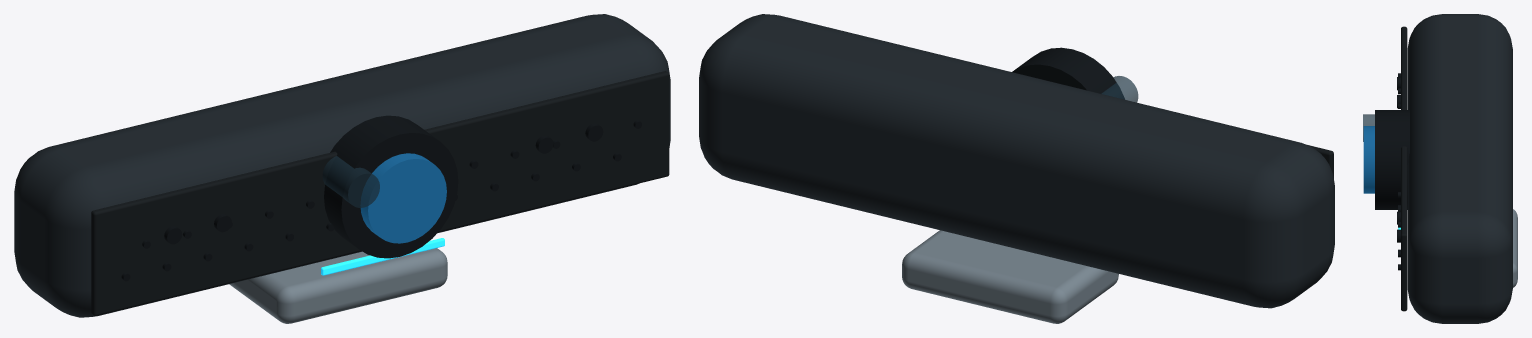
Rendered from conference-bar.glb.
3 renders of one model, left to right at view 1: azimuth 30°, elevation 25°; view 2: azimuth 150°, elevation 25°; view 3: azimuth 270°, elevation 25°, orthographic. The views are drawn at different scales.
Visible parts, largest first — view 1: Conference bar enclosure, Acoustic fabric grille, Wall mount, Camera bezel, Camera lens, Wide-angle sensor, Professional video conference bar, Status light; view 2: Conference bar enclosure, Wall mount, Camera bezel, Wide-angle sensor; view 3: Conference bar enclosure, Camera bezel, Acoustic fabric grille, Camera lens, Wall mount, Wide-angle sensor, Professional video conference bar.
Part boxes in pixels (x1,y1,x2,y2): Conference bar enclosure: [14, 14, 670, 317]; Acoustic fabric grille: [91, 71, 669, 315]; Wall mount: [229, 248, 447, 323]; Camera bezel: [324, 115, 458, 258]; Camera lens: [360, 153, 446, 243]; Wide-angle sensor: [322, 156, 379, 207]; Professional video conference bar: [121, 120, 641, 281]; Status light: [321, 238, 444, 275]; Conference bar enclosure: [699, 14, 1334, 308]; Wall mount: [902, 230, 1118, 323]; Camera bezel: [1012, 47, 1124, 99]; Wide-angle sensor: [1101, 76, 1138, 102]; Conference bar enclosure: [1407, 14, 1512, 323]; Camera bezel: [1375, 110, 1409, 209]; Acoustic fabric grille: [1401, 26, 1407, 311]; Camera lens: [1363, 126, 1374, 193]; Wall mount: [1513, 209, 1517, 287]; Wide-angle sensor: [1363, 114, 1374, 141]; Professional video conference bar: [1398, 73, 1400, 270].
Bounding box in the file's own units: 2.12 × 0.65 × 0.6175.
